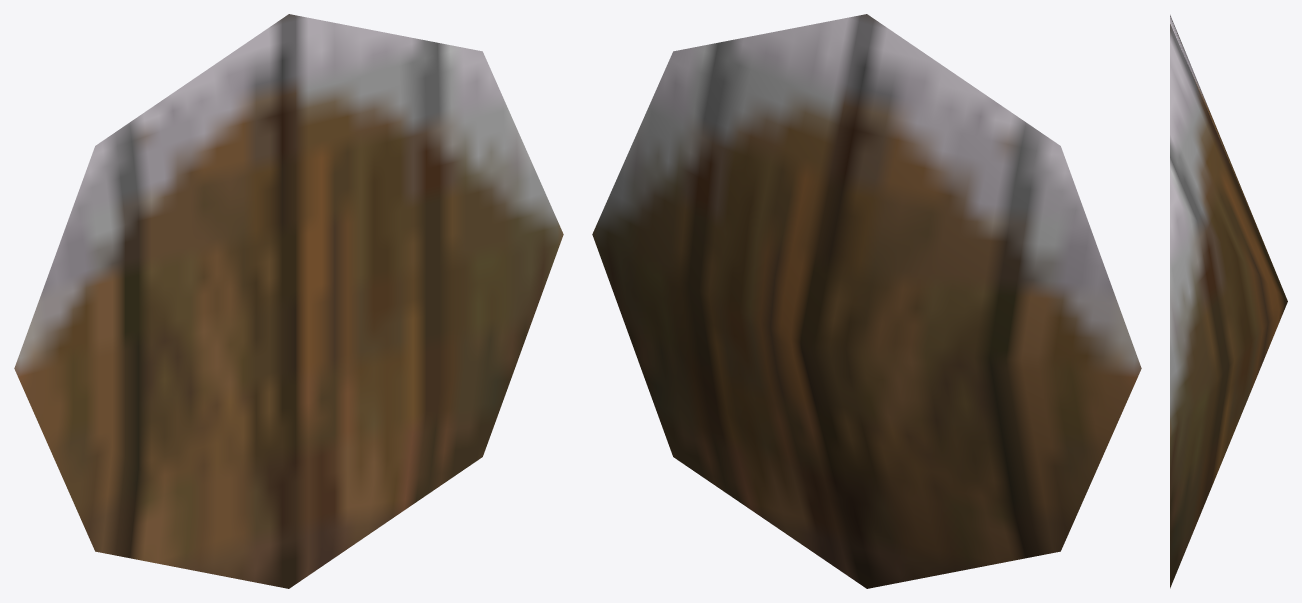
File: attachments_n_shield_small_copper.glb
The picture shows the model from 3 angles, left to right: view 1: azimuth 30°, elevation 25°; view 2: azimuth 150°, elevation 25°; view 3: azimuth 270°, elevation 25°; orthographic projection. The views are drawn at different scales.
Parts seen in each view (by area): view 1: MeshRoot; view 2: MeshRoot; view 3: MeshRoot.
Part boxes in pixels (x1,y1,x2,y2): MeshRoot: [14, 14, 563, 588]; MeshRoot: [592, 14, 1141, 588]; MeshRoot: [1170, 14, 1287, 588].
Size of the model in its own units: 0.5039 by 0.5039 by 0.0969.
Materials: 1 (1 with a texture image).
